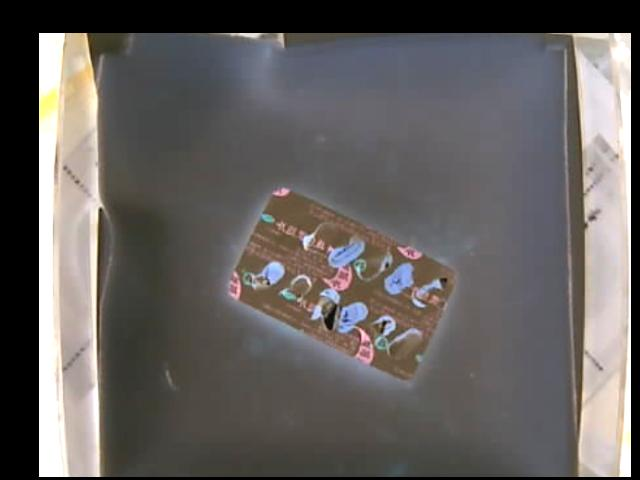Medicine: (226, 183, 454, 378)
